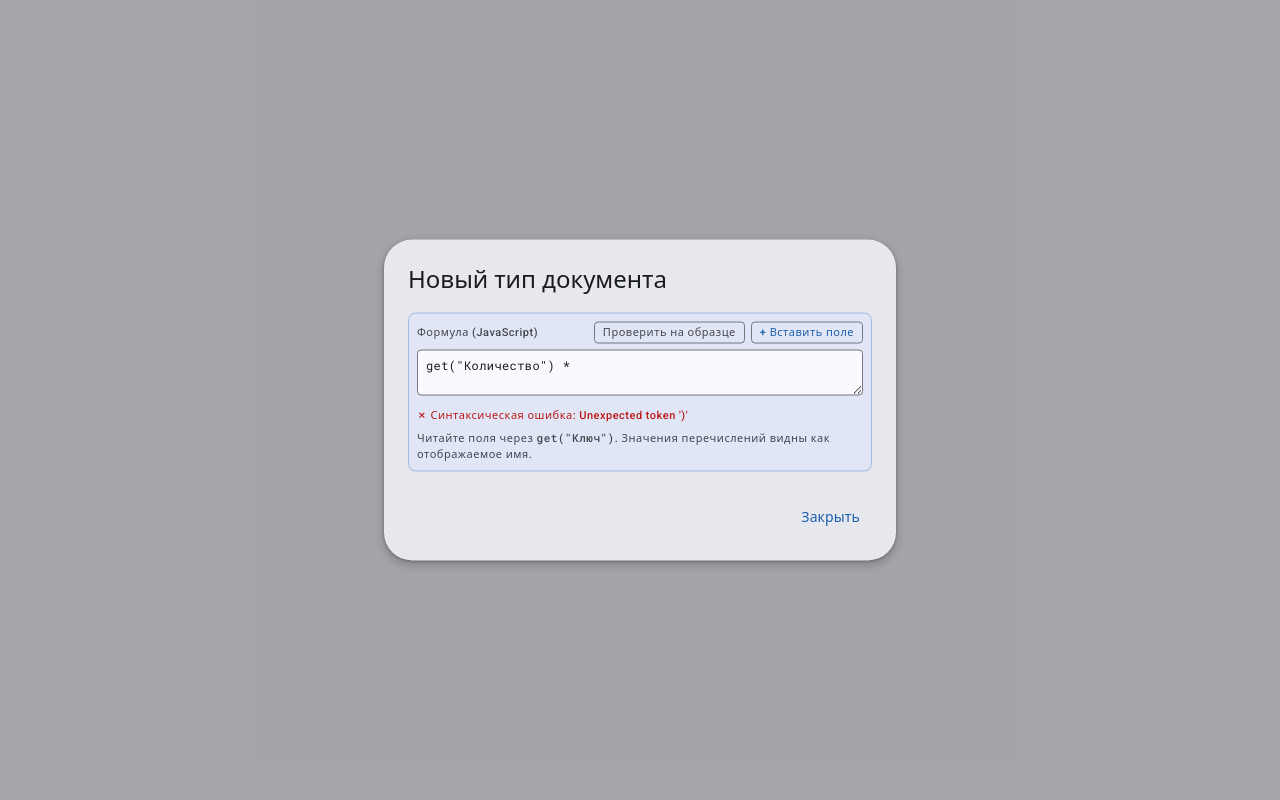
Scenario: ComputedFieldEditor: «+ Вставить поле» › выбор вставляет get("<ключ>") на место курсора и отдаёт фокус формуле
Click the button "+ Вставить поле" at (807, 332), box [751,322,863,344]
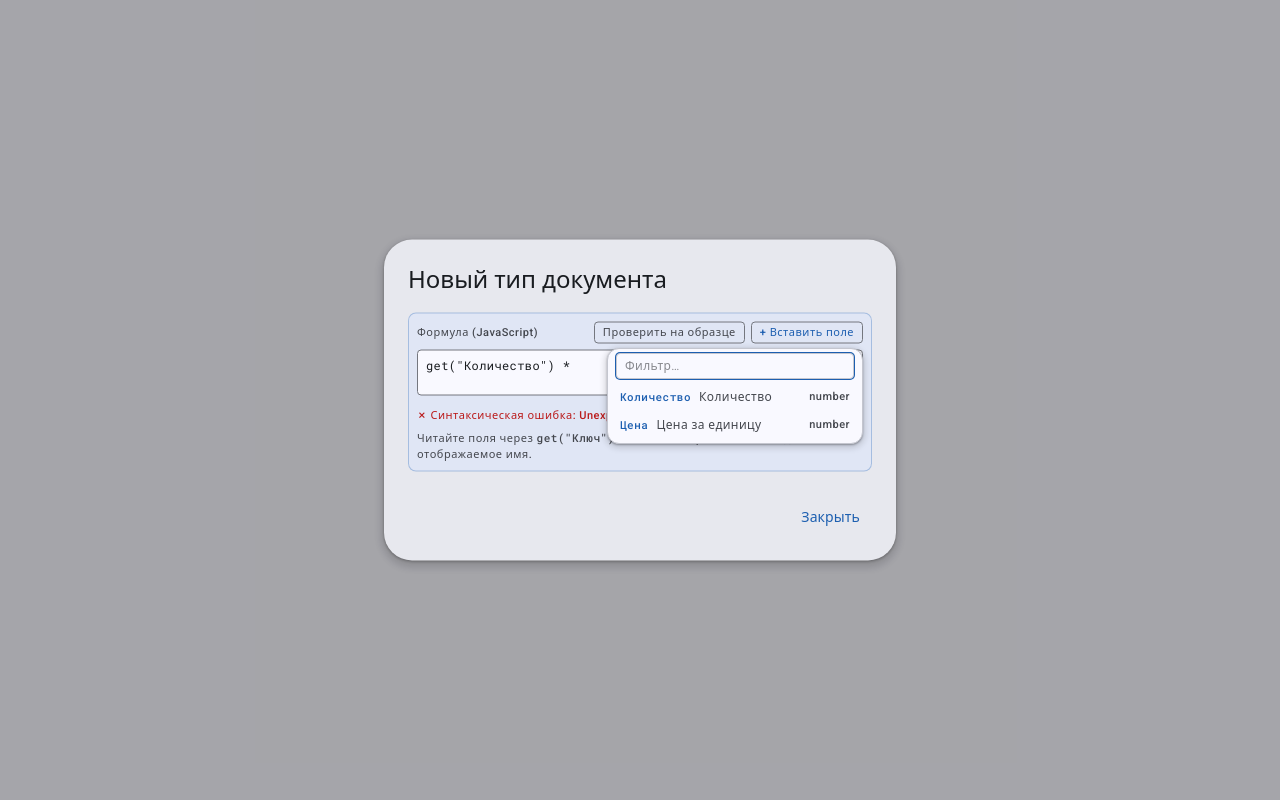
Type keys "цен"
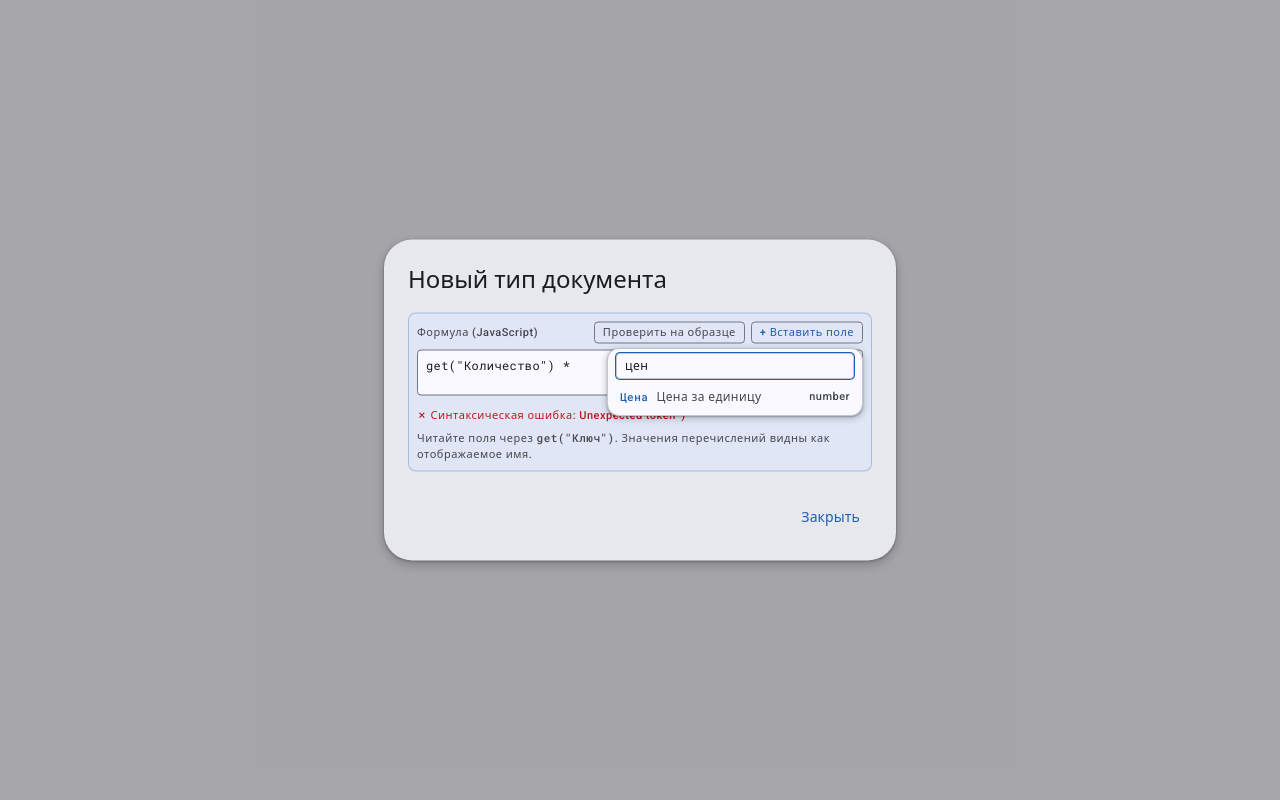
Click the text "Цена за единицу" at (709, 397), box [656,390,762,404]
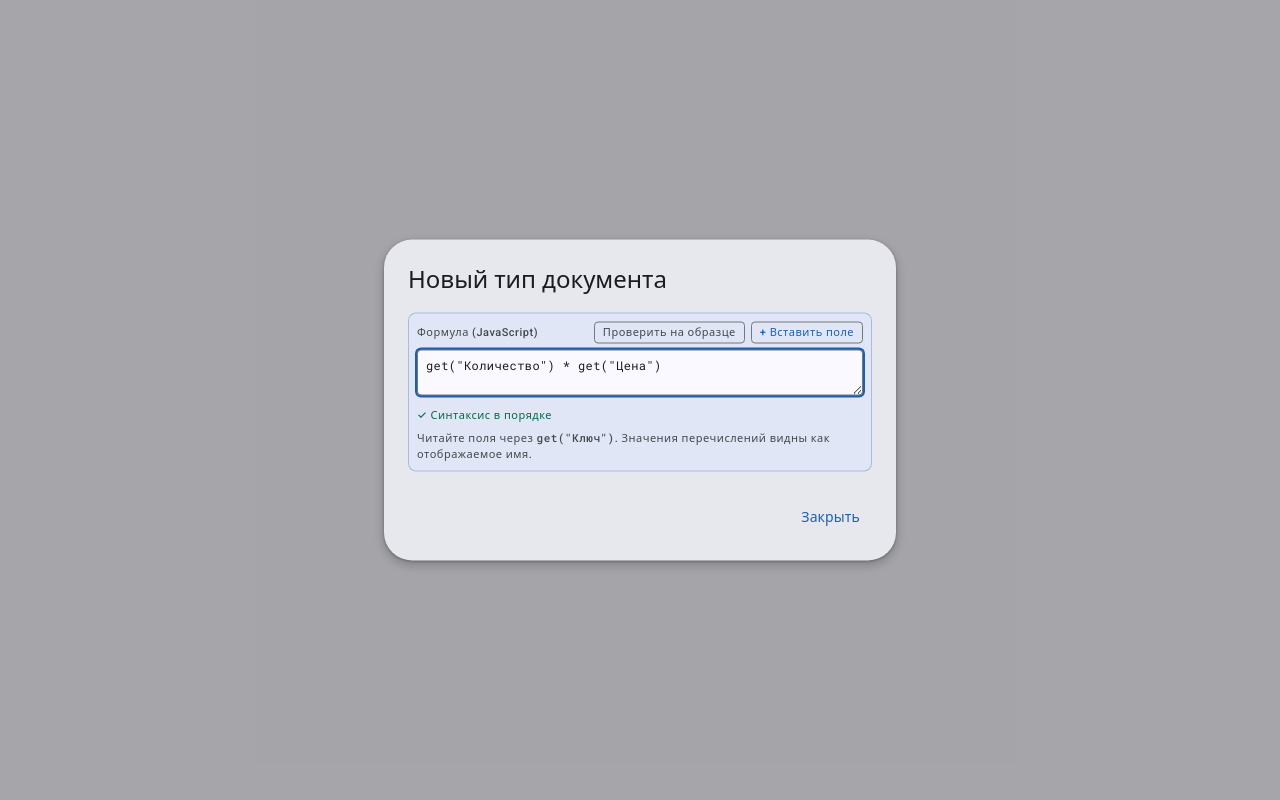
Result: the text box with placeholder "get(\"Количество\") * get(\"Цена\")" holds "get(\"Количество\") * get(\"Цена\")" at [417,350,863,396]
